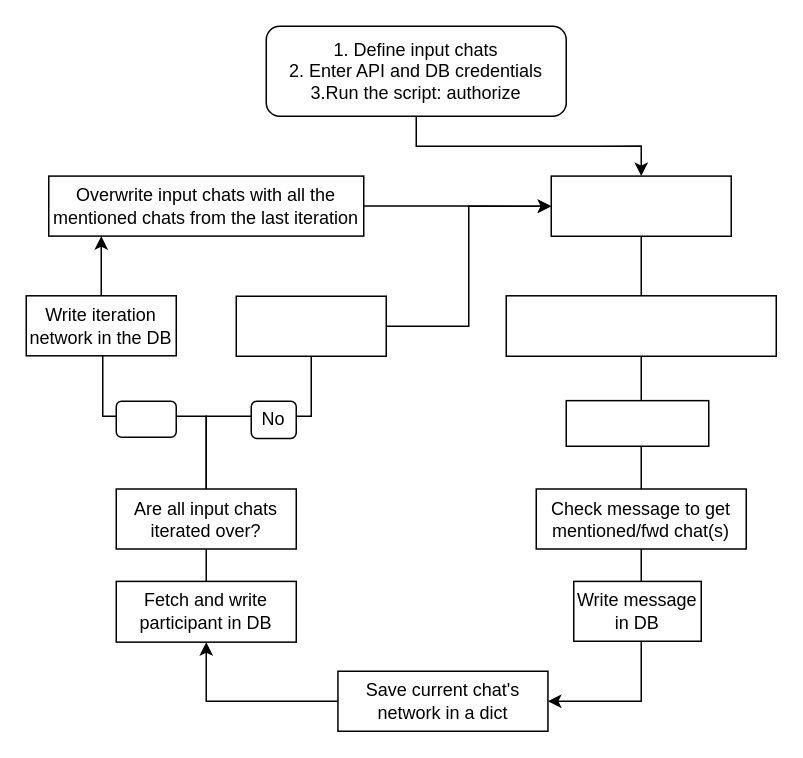
The diagram is 803 pixels wide and 758 high, and some of its shapes have lost their labels. The centre of each missing label's shape, as x and y in pixels:
Establish first connection to the chat: (640,205)
Fetch chat information and write it in DB, check for linked chat: (640,325)
Fetch message: (637,422)
Proceed with the next chat: (310,325)
Yes: (145,418)
